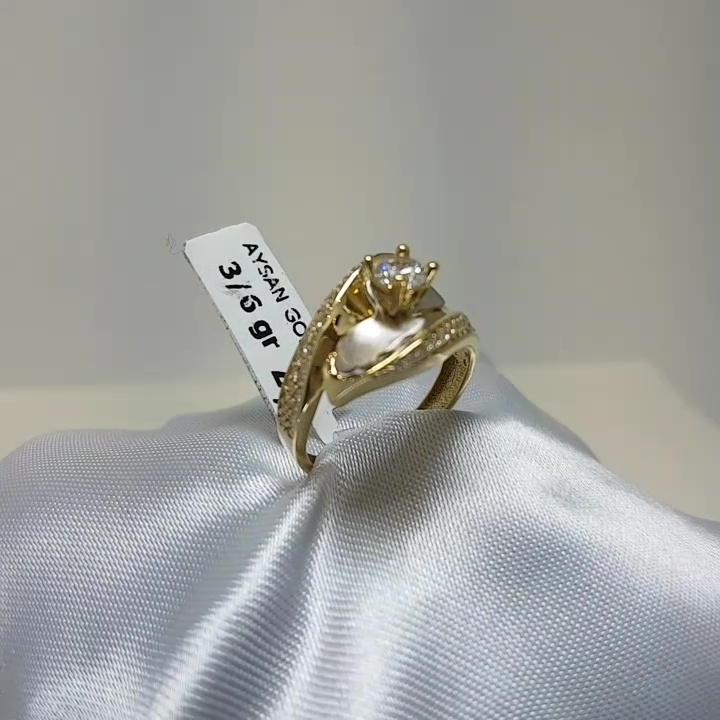Ring 6: (269, 228, 507, 470)
